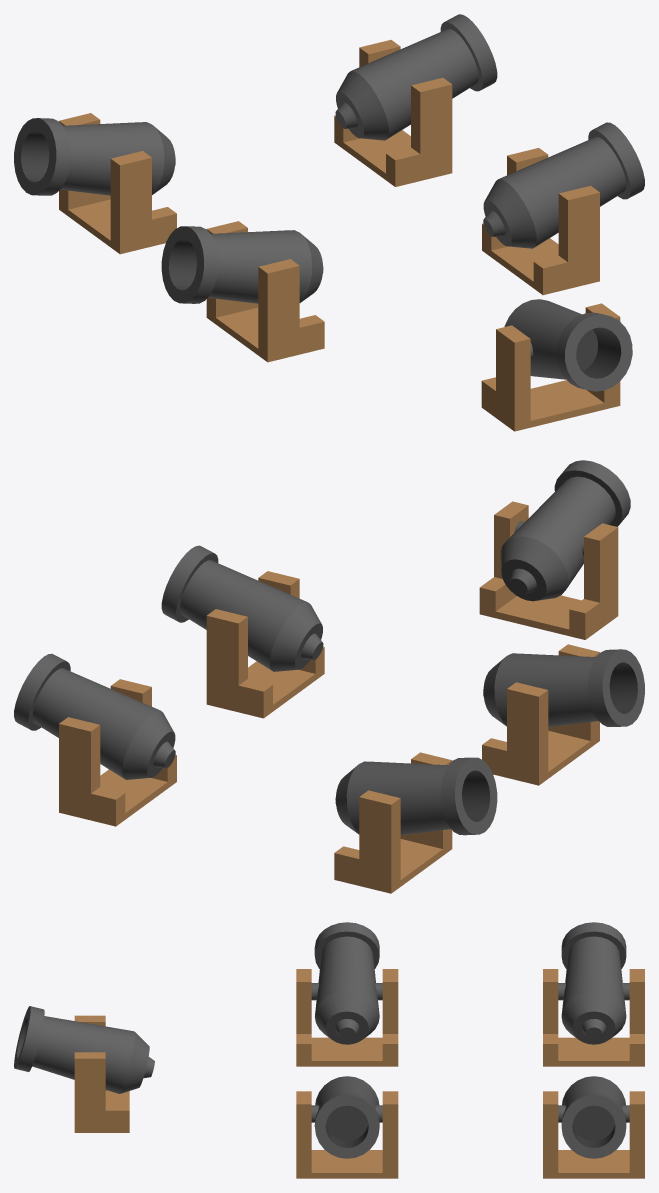
Rendered from cannons.obj.
3 views of the same model, one above another, from view 1: azimuth 30°, elevation 25°; view 2: azimuth 150°, elevation 25°; view 3: azimuth 270°, elevation 25° (orthographic). The views are drawn at different scales.
Visible parts, largest first — view 1: Mesh1_Group2_Cannon_left_1_Group1_Model, Mesh5_Group6_Cannon_left_2_Group1_Model, Mesh9_Group10_Cannon_right_1_Group1_Model, Mesh7_Group8_Cannon_right_2_Group1_Model, Mesh3_Group4_Cannon_front_Group1_Model, Mesh6_Group7_Cannon_left_2_Group1_Model, Mesh2_Group3_Cannon_left_1_Group1_Model, Mesh10_Group11_Cannon_right_1_Group1_Model, Mesh8_Group9_Cannon_right_2_Group1_Model, Mesh4_Group5_Cannon_front_Group1_Model; view 2: Mesh5_Group6_Cannon_left_2_Group1_Model, Mesh1_Group2_Cannon_left_1_Group1_Model, Mesh3_Group4_Cannon_front_Group1_Model, Mesh7_Group8_Cannon_right_2_Group1_Model, Mesh9_Group10_Cannon_right_1_Group1_Model, Mesh4_Group5_Cannon_front_Group1_Model, Mesh2_Group3_Cannon_left_1_Group1_Model, Mesh6_Group7_Cannon_left_2_Group1_Model, Mesh8_Group9_Cannon_right_2_Group1_Model, Mesh10_Group11_Cannon_right_1_Group1_Model; view 3: Mesh7_Group8_Cannon_right_2_Group1_Model, Mesh9_Group10_Cannon_right_1_Group1_Model, Mesh3_Group4_Cannon_front_Group1_Model, Mesh10_Group11_Cannon_right_1_Group1_Model, Mesh8_Group9_Cannon_right_2_Group1_Model, Mesh2_Group3_Cannon_left_1_Group1_Model, Mesh6_Group7_Cannon_left_2_Group1_Model, Mesh5_Group6_Cannon_left_2_Group1_Model, Mesh1_Group2_Cannon_left_1_Group1_Model, Mesh4_Group5_Cannon_front_Group1_Model.
Boxes of the visible parts, left/top/right/bottom form: Mesh1_Group2_Cannon_left_1_Group1_Model: left=483, top=122, right=644, bottom=248; Mesh5_Group6_Cannon_left_2_Group1_Model: left=335, top=14, right=497, bottom=140; Mesh9_Group10_Cannon_right_1_Group1_Model: left=161, top=226, right=323, bottom=303; Mesh7_Group8_Cannon_right_2_Group1_Model: left=14, top=118, right=175, bottom=195; Mesh3_Group4_Cannon_front_Group1_Model: left=504, top=299, right=632, bottom=391; Mesh6_Group7_Cannon_left_2_Group1_Model: left=334, top=40, right=452, bottom=186; Mesh2_Group3_Cannon_left_1_Group1_Model: left=482, top=148, right=599, bottom=295; Mesh10_Group11_Cannon_right_1_Group1_Model: left=206, top=221, right=324, bottom=362; Mesh8_Group9_Cannon_right_2_Group1_Model: left=59, top=113, right=176, bottom=254; Mesh4_Group5_Cannon_front_Group1_Model: left=481, top=303, right=620, bottom=431; Mesh5_Group6_Cannon_left_2_Group1_Model: left=14, top=653, right=175, bottom=779; Mesh1_Group2_Cannon_left_1_Group1_Model: left=161, top=545, right=323, bottom=671; Mesh3_Group4_Cannon_front_Group1_Model: left=500, top=460, right=630, bottom=601; Mesh7_Group8_Cannon_right_2_Group1_Model: left=335, top=757, right=497, bottom=835; Mesh9_Group10_Cannon_right_1_Group1_Model: left=483, top=649, right=644, bottom=726; Mesh4_Group5_Cannon_front_Group1_Model: left=479, top=501, right=618, bottom=639; Mesh2_Group3_Cannon_left_1_Group1_Model: left=206, top=571, right=324, bottom=718; Mesh6_Group7_Cannon_left_2_Group1_Model: left=59, top=679, right=176, bottom=826; Mesh8_Group9_Cannon_right_2_Group1_Model: left=334, top=752, right=452, bottom=893; Mesh10_Group11_Cannon_right_1_Group1_Model: left=482, top=644, right=599, bottom=785; Mesh7_Group8_Cannon_right_2_Group1_Model: left=561, top=922, right=626, bottom=1044; Mesh9_Group10_Cannon_right_1_Group1_Model: left=314, top=922, right=379, bottom=1044; Mesh3_Group4_Cannon_front_Group1_Model: left=14, top=1006, right=154, bottom=1093; Mesh10_Group11_Cannon_right_1_Group1_Model: left=296, top=969, right=398, bottom=1066; Mesh8_Group9_Cannon_right_2_Group1_Model: left=543, top=969, right=644, bottom=1066; Mesh2_Group3_Cannon_left_1_Group1_Model: left=296, top=1091, right=398, bottom=1178; Mesh6_Group7_Cannon_left_2_Group1_Model: left=543, top=1091, right=644, bottom=1178; Mesh5_Group6_Cannon_left_2_Group1_Model: left=561, top=1076, right=626, bottom=1158; Mesh1_Group2_Cannon_left_1_Group1_Model: left=314, top=1076, right=379, bottom=1158; Mesh4_Group5_Cannon_front_Group1_Model: left=74, top=1015, right=129, bottom=1132.
Size of the model in its own units: 3.77 by 0.9625 by 5.37.
